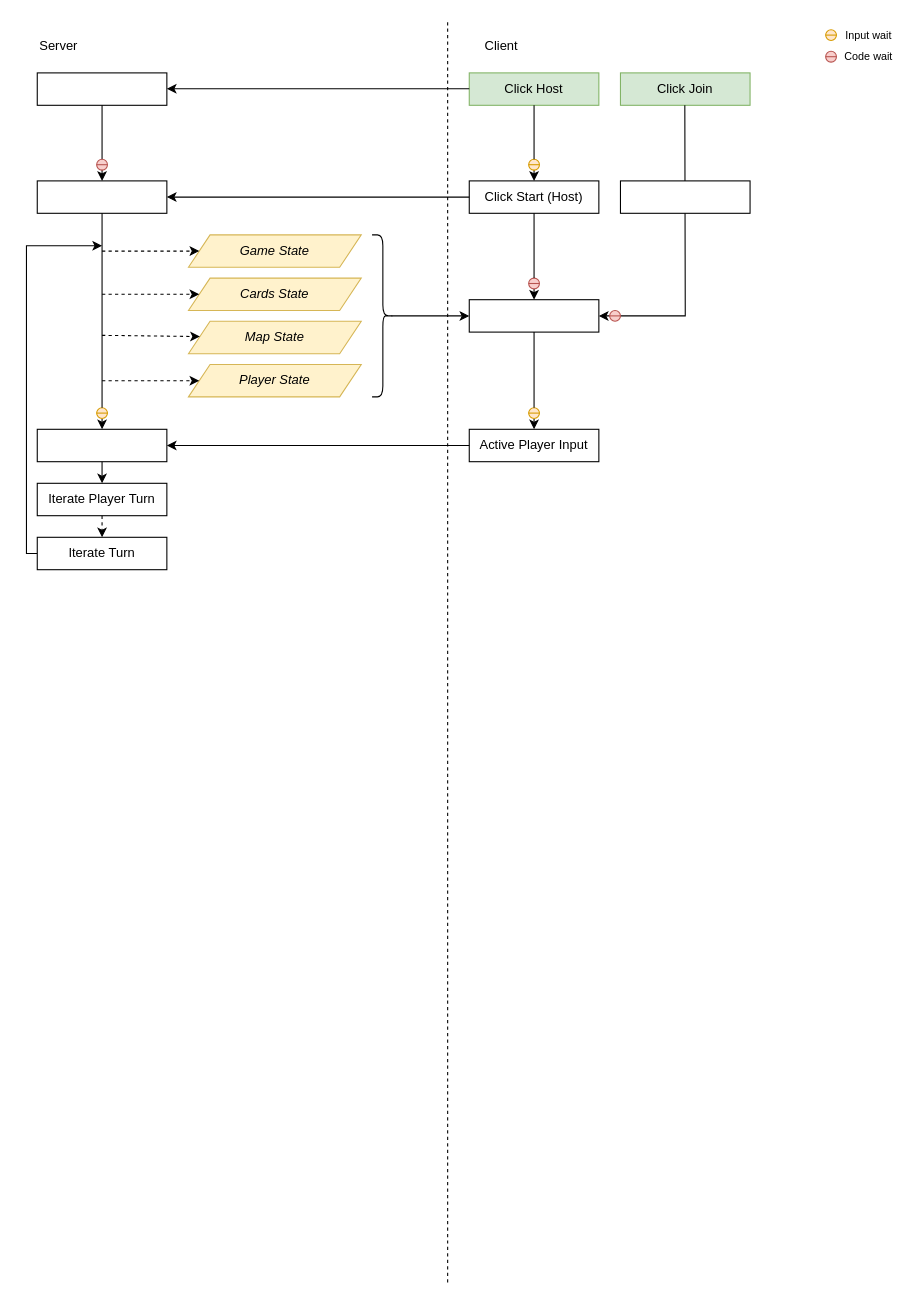
The diagram is 920 pixels wide and 1302 high, and some of its shapes have lost their labels. Here are the shapes that lost their labels. From the top down, the centre of each, then its label:
(101,88): Start Server (Host)
(101,196): Start Game
(684,196): Await Host Start
(533,315): Update UI
(101,445): Action Changes
